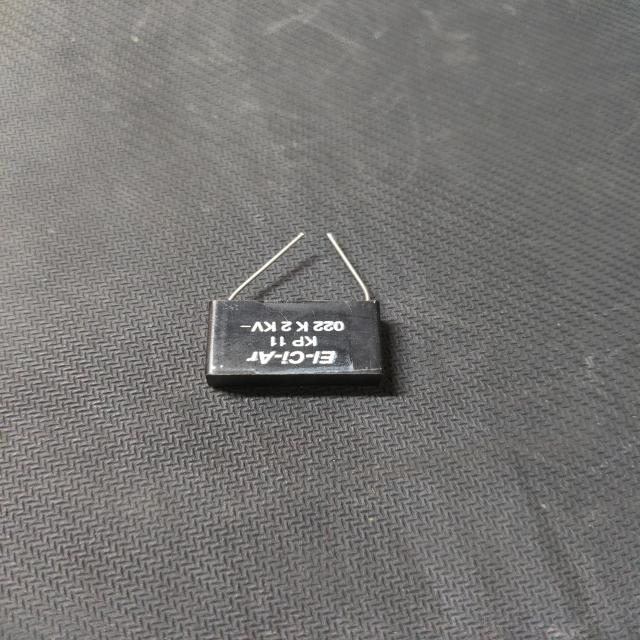capacitor: (192, 222, 404, 400)
